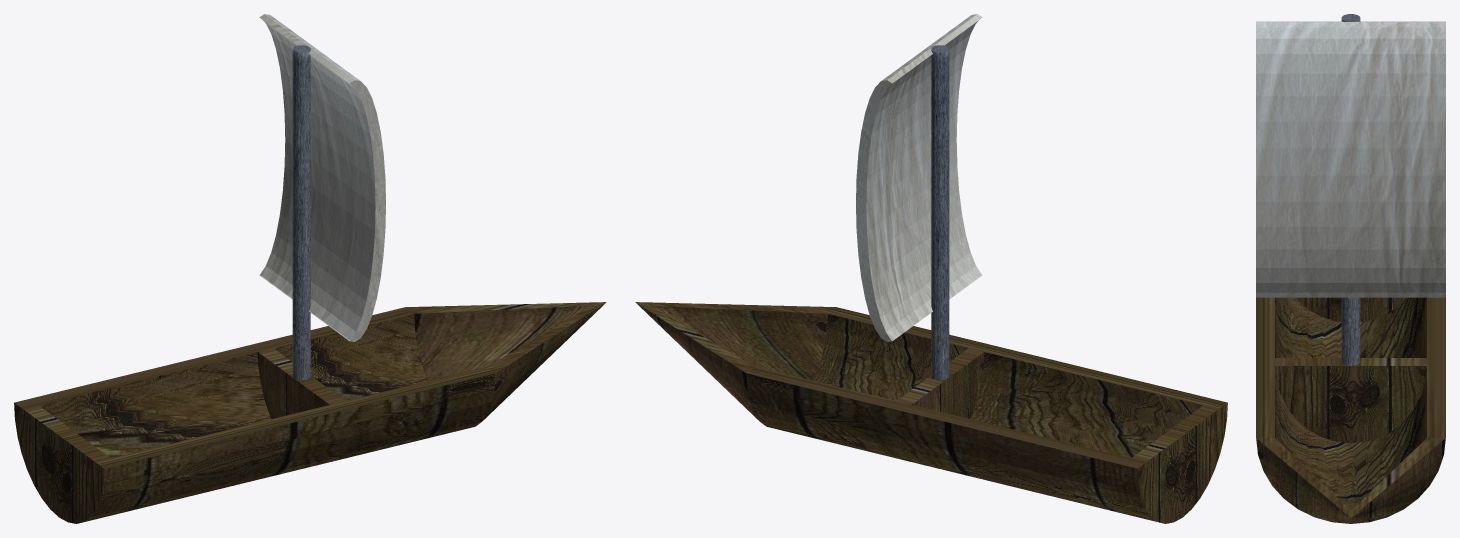
File: boat.obj
3 renders of one model, left to right at view 1: azimuth 30°, elevation 25°; view 2: azimuth 150°, elevation 25°; view 3: azimuth 270°, elevation 25°, orthographic. The views are drawn at different scales.
Parts seen in each view (by area): view 1: Base_Cone, Sail_Cylinder.004, Pole_Cylinder.003; view 2: Base_Cone, Sail_Cylinder.004, Pole_Cylinder.003; view 3: Sail_Cylinder.004, Base_Cone, Pole_Cylinder.003.
Boxes of the visible parts, x1,y1,x2,y2 form: Base_Cone: (14,302,606,523); Sail_Cylinder.004: (259,14,385,341); Pole_Cylinder.003: (292,45,310,380); Base_Cone: (635,302,1227,523); Sail_Cylinder.004: (856,14,982,341); Pole_Cylinder.003: (931,45,949,380); Sail_Cylinder.004: (1256,21,1445,297); Base_Cone: (1256,297,1445,523); Pole_Cylinder.003: (1341,14,1360,365).
Bounding box in the file's own units: 35 × 25 × 10.
